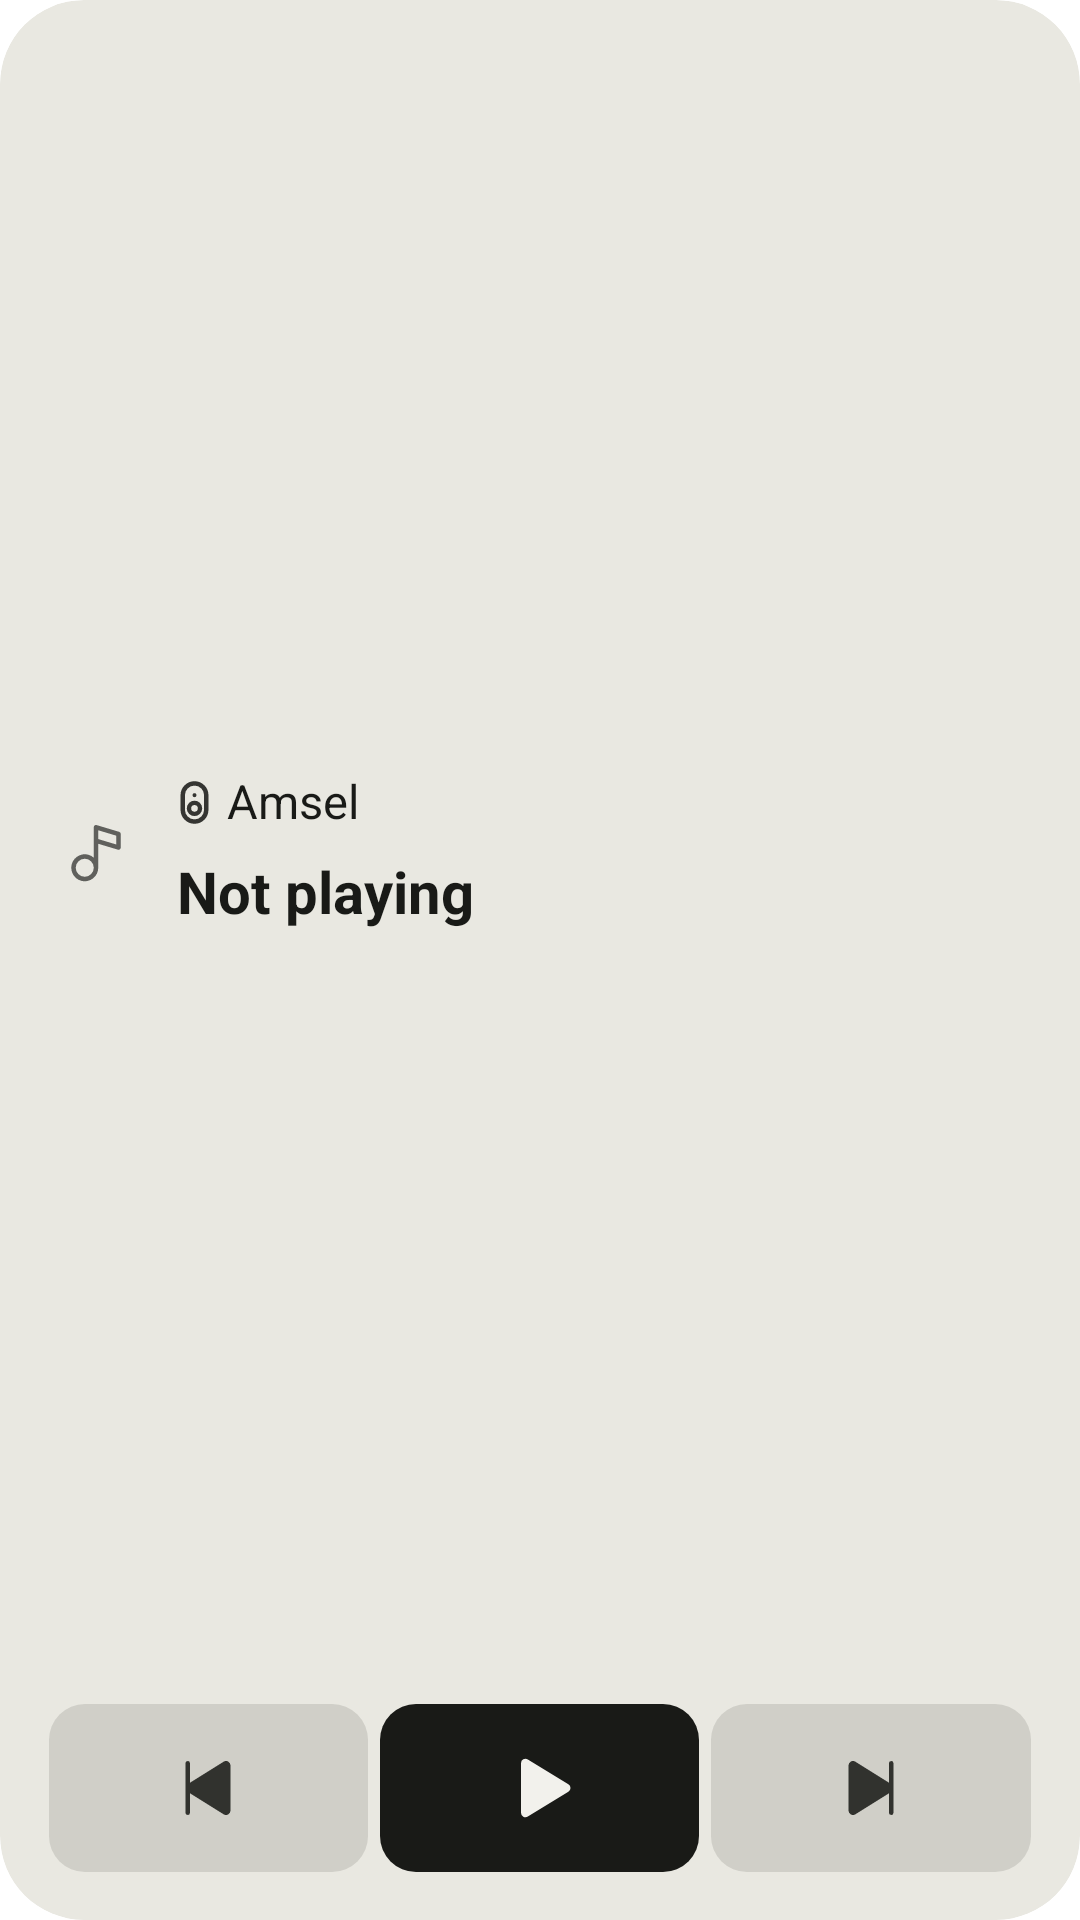

Named icons in this screenshot (1080 x 1920) and their centers, point (x, y):
play: point (546, 1788)
skip next: point (871, 1788)
skip previous: point (208, 1788)
speaker: point (194, 802)
track: point (96, 853)
